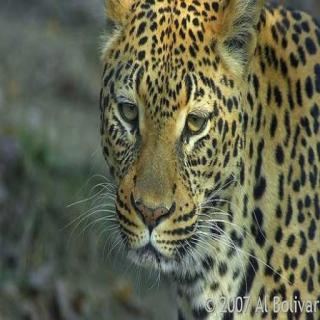Leopard: (69, 21, 319, 320)
